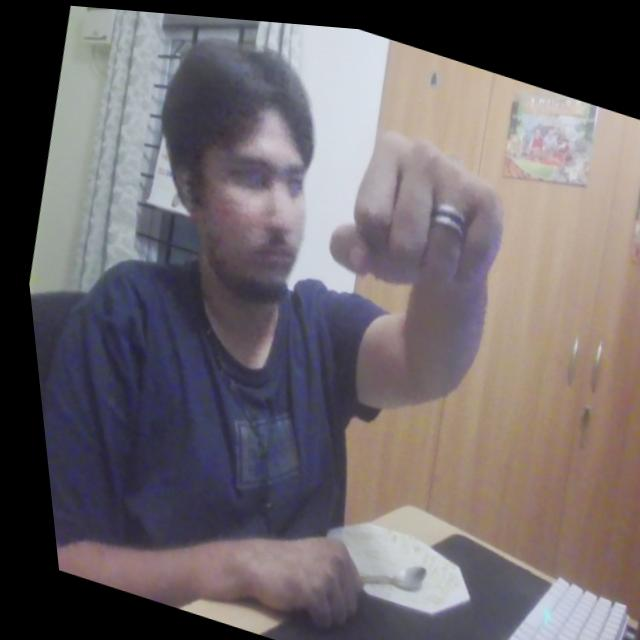yes: (301, 96, 534, 320)
